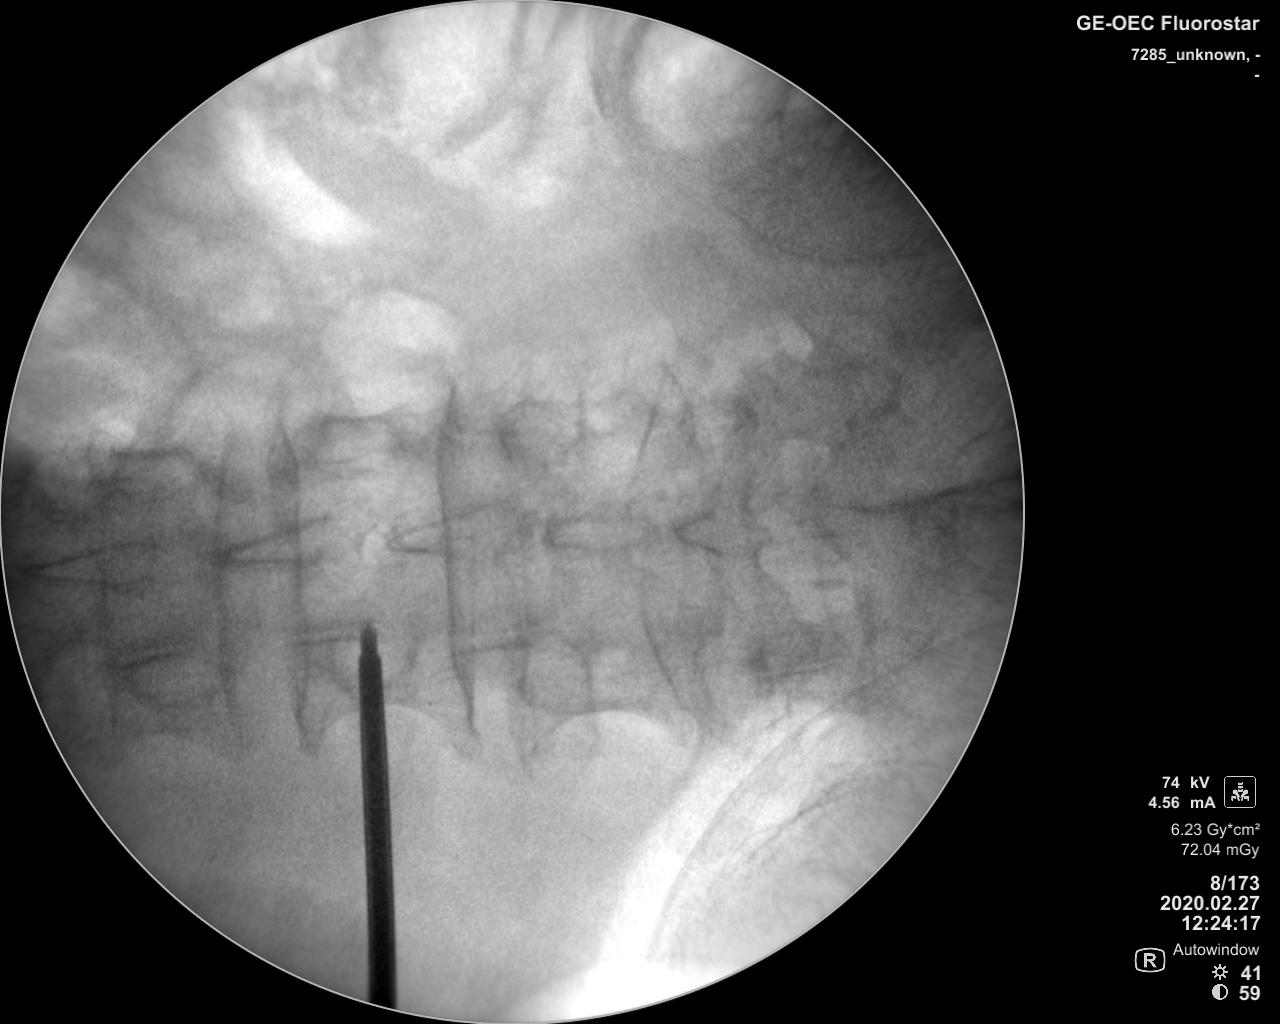eyes: (303, 411, 403, 484), (309, 623, 411, 694), (122, 651, 239, 711), (513, 633, 596, 712), (490, 393, 585, 461), (111, 446, 204, 499)
line: (429, 378, 485, 731), (277, 420, 315, 738), (84, 450, 126, 720), (208, 426, 246, 725)
nose: (389, 501, 528, 563), (27, 539, 168, 594), (218, 511, 334, 568), (541, 507, 661, 555), (675, 512, 776, 559)
